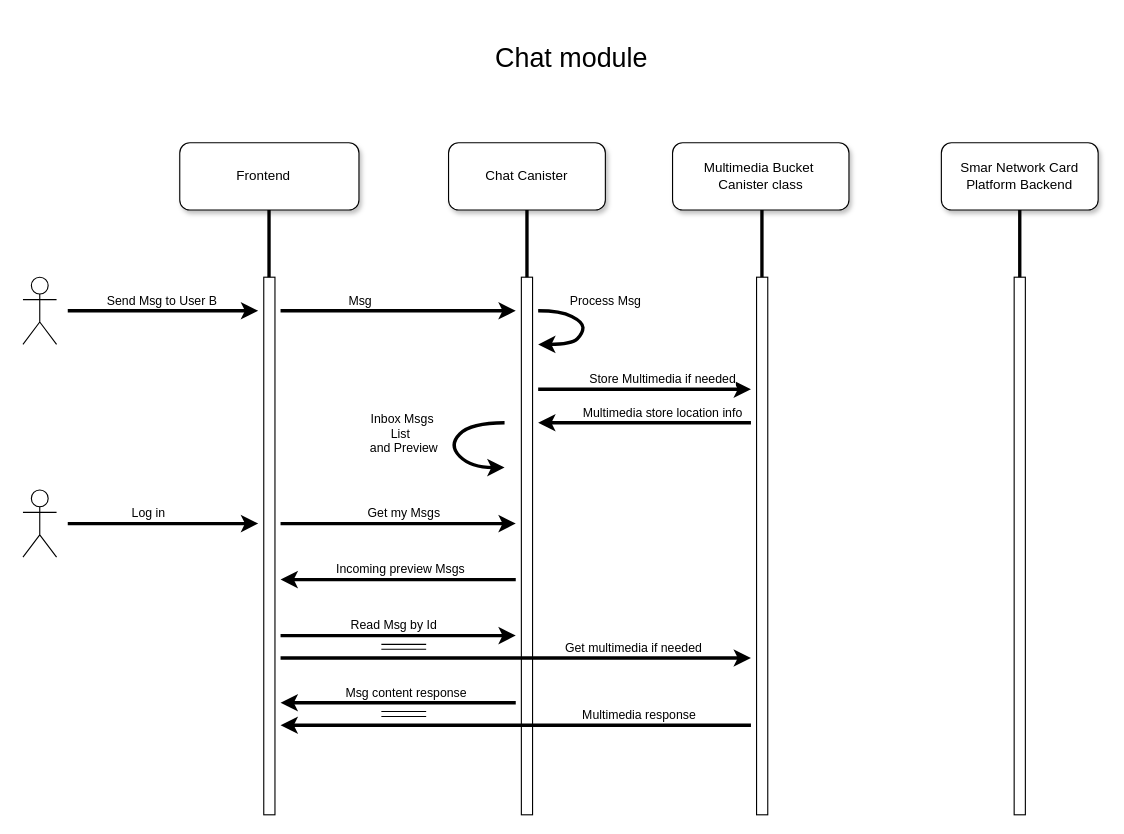
Some shapes in this 1124 by 834 pixel diagram are drawn without their labels. Here are the shapes that lost their labels. From the top down, the centre of each, then its label:
At (39,310): "User A".
At (39,523): "User B".
